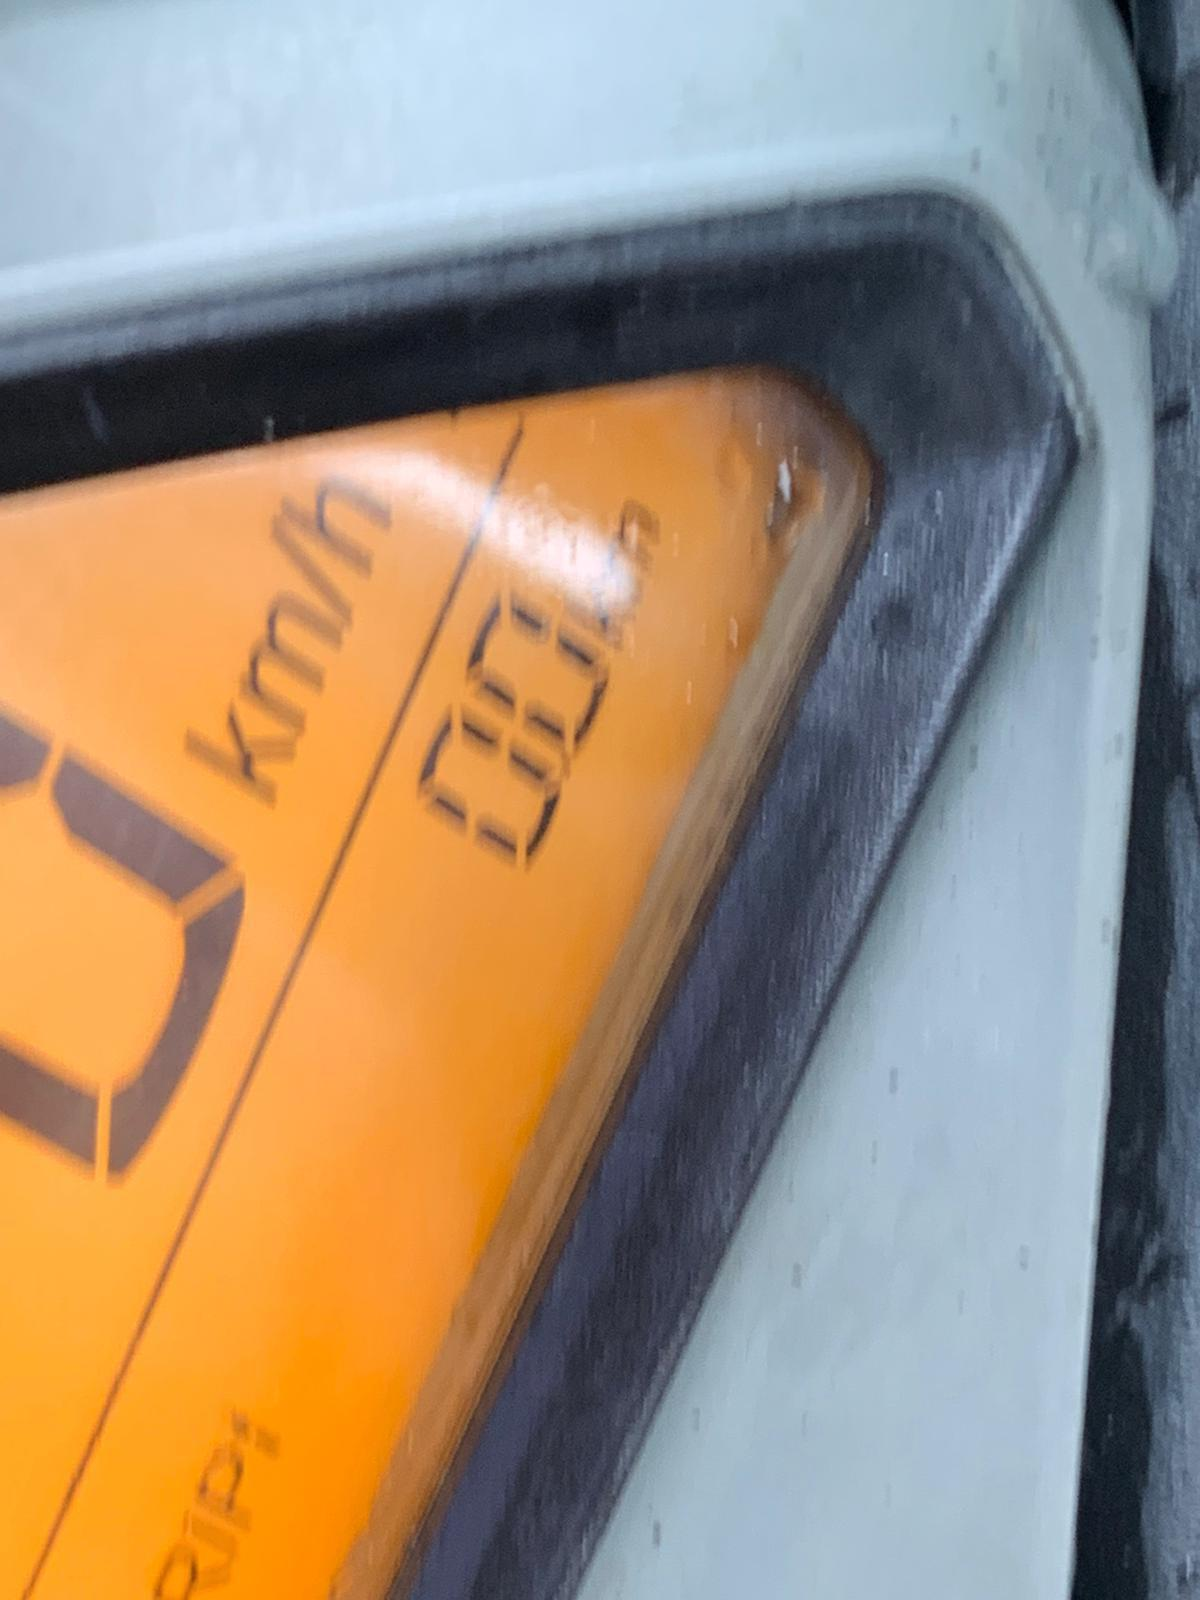,: (552, 751, 579, 785)
0: (413, 712, 562, 876), (464, 590, 609, 745)
1: (214, 1387, 303, 1458)
X: (236, 591, 340, 719), (279, 464, 403, 569), (255, 513, 362, 624), (174, 716, 308, 803), (195, 1448, 270, 1532), (609, 500, 669, 578), (147, 1545, 229, 1597)
odometer: (1, 334, 934, 1599)
